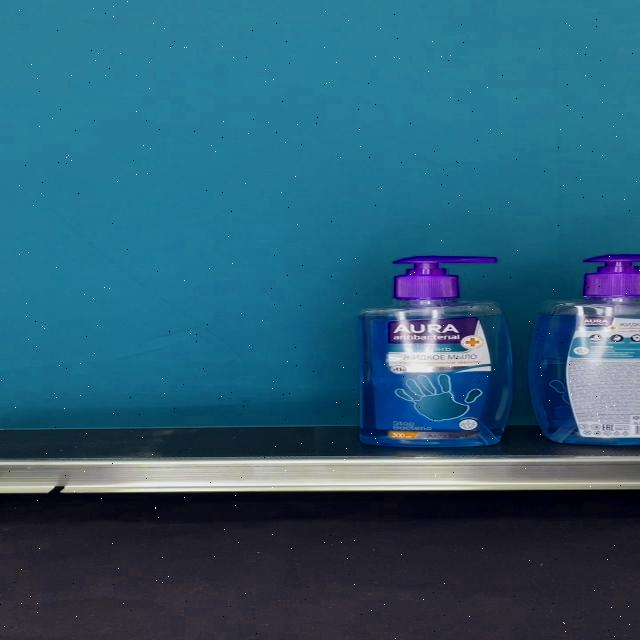Bottle: (356, 256, 515, 447)
Cap: (393, 256, 498, 300)
